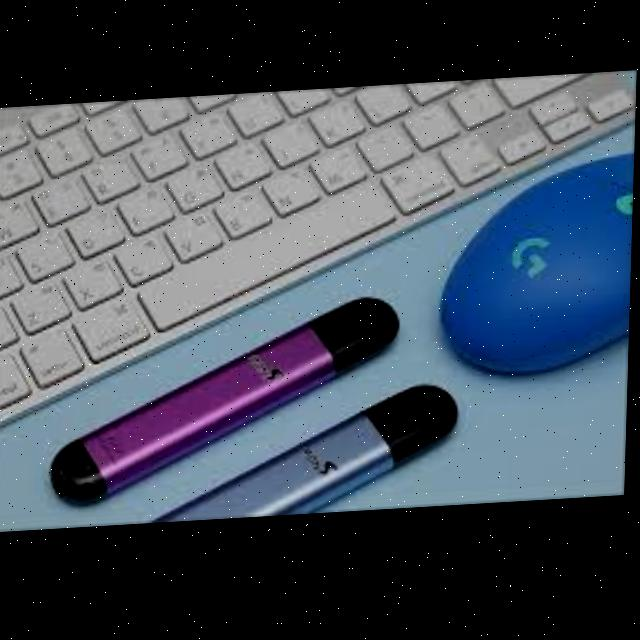vape: (52, 296, 403, 508), (149, 384, 463, 524)
